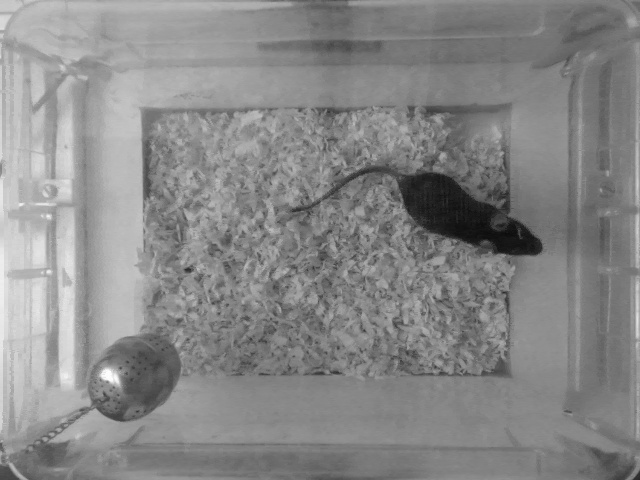mice: (282, 166, 547, 261)
